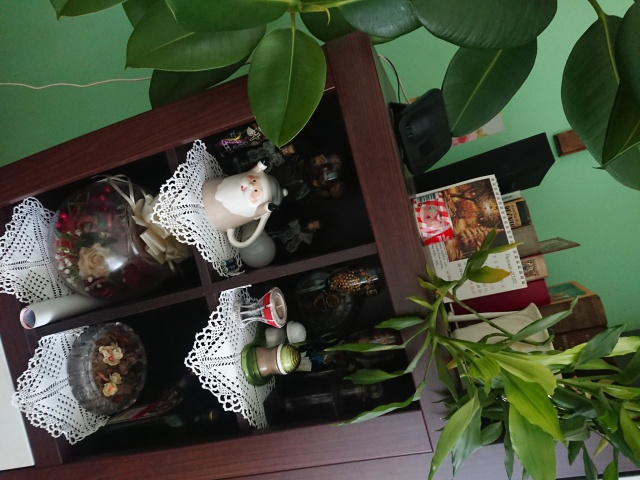Podravka Luncheon Meat 150g: (408, 189, 457, 250)
